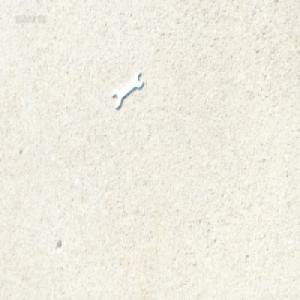Wrench: (112, 70, 145, 109)
